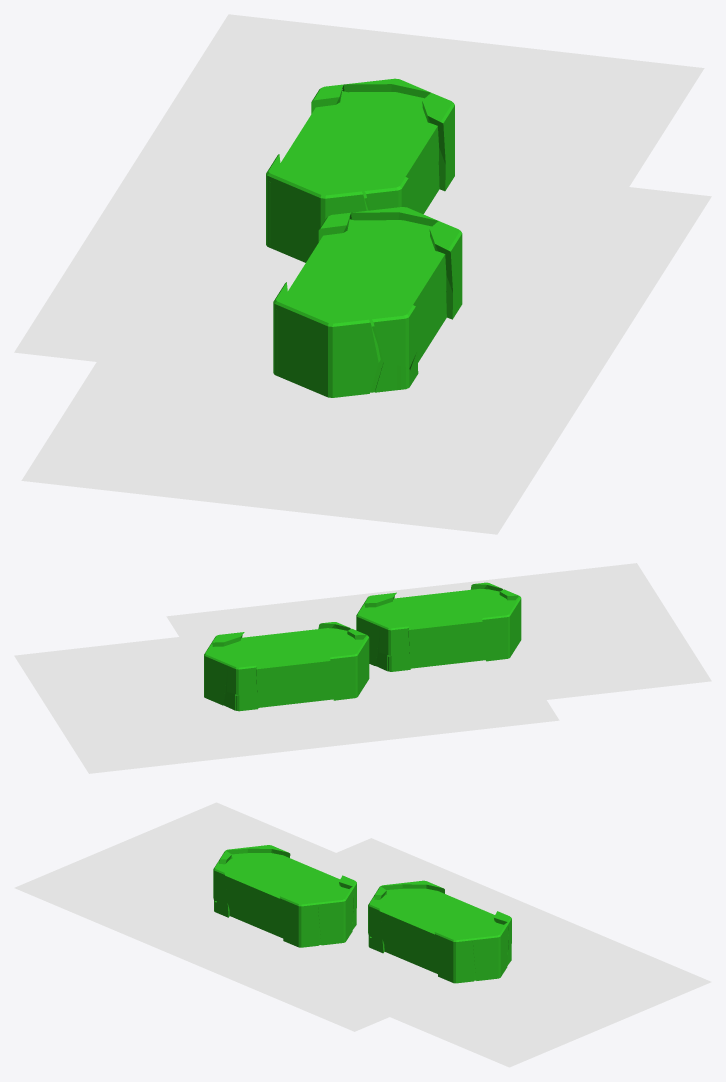
Rendered from Obstacles1.fbx.
The picture shows the model from 3 angles, top to bottom: view 1: azimuth 30°, elevation 25°; view 2: azimuth 150°, elevation 25°; view 3: azimuth 270°, elevation 25°; orthographic projection. The views are drawn at different scales.
Parts seen in each view (by area): view 1: Shadow (×2), Model (×2), HexGib04 (×2), HexGib05 (×2), HexGib09 (×2), HexGib06 (×2), HexGib01 (×2); view 2: Shadow (×2), Model (×2), HexGib04 (×2), HexGib02 (×2), HexGib01 (×2); view 3: Shadow (×2), Model (×2), HexGib09 (×2), HexGib01 (×2), HexGib06 (×2).
Boxes of the visible parts, x1=… form: Shadow (×2): x1=14, y1=14, x2=711, y2=534; Model (×2): x1=269, y1=91, x2=446, y2=392; HexGib04 (×2): x1=266, y1=154, x2=332, y2=397; HexGib05 (×2): x1=325, y1=187, x2=380, y2=397; HexGib09 (×2): x1=422, y1=92, x2=462, y2=319; HexGib06 (×2): x1=364, y1=177, x2=418, y2=368; HexGib01 (×2): x1=342, y1=78, x2=438, y2=226; Shadow (×2): x1=14, y1=563, x2=711, y2=773; Model (×2): x1=212, y1=589, x2=514, y2=710; HexGib04 (×2): x1=330, y1=596, x2=521, y2=700; HexGib02 (×2): x1=227, y1=621, x2=409, y2=699; HexGib01 (×2): x1=204, y1=603, x2=380, y2=705; Shadow (×2): x1=14, y1=802, x2=711, y2=1067; Model (×2): x1=217, y1=853, x2=511, y2=980; HexGib09 (×2): x1=279, y1=895, x2=474, y2=983; HexGib01 (×2): x1=317, y1=886, x2=508, y2=980; HexGib06 (×2): x1=213, y1=860, x2=383, y2=938.
Bounding box in the file's own units: 4.46 × 0.3461 × 4.96.
